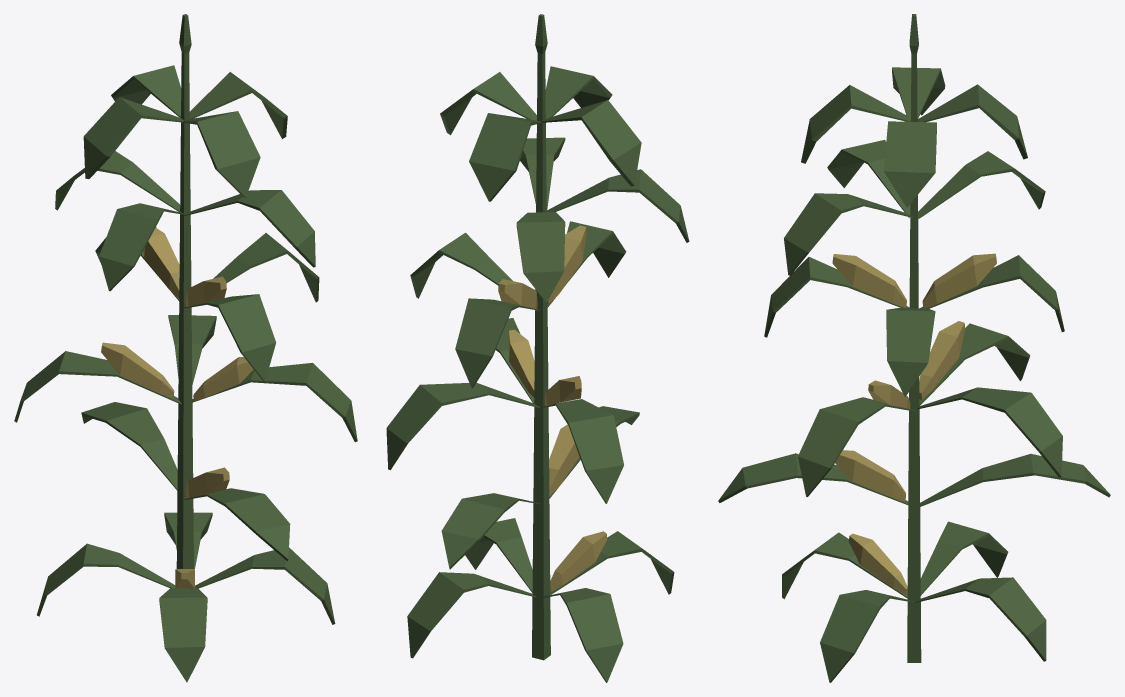
File: q-nature150-corn-2.glb
3 views of the same model, side by side, from view 1: azimuth 30°, elevation 25°; view 2: azimuth 150°, elevation 25°; view 3: azimuth 270°, elevation 25° (orthographic).
Visible parts, largest first — view 1: Green, Yellow; view 2: Green, Yellow; view 3: Green, Yellow.
Part boxes in pixels (left/top/right/bottom): Green: left=14, top=14, right=357, bottom=682; Yellow: left=101, top=227, right=253, bottom=588; Green: left=386, top=14, right=689, bottom=682; Yellow: left=498, top=225, right=607, bottom=591; Green: left=718, top=14, right=1110, bottom=682; Yellow: left=832, top=253, right=996, bottom=594.
Bounding box in the file's own units: 0.8237 × 1.98 × 1.09.
